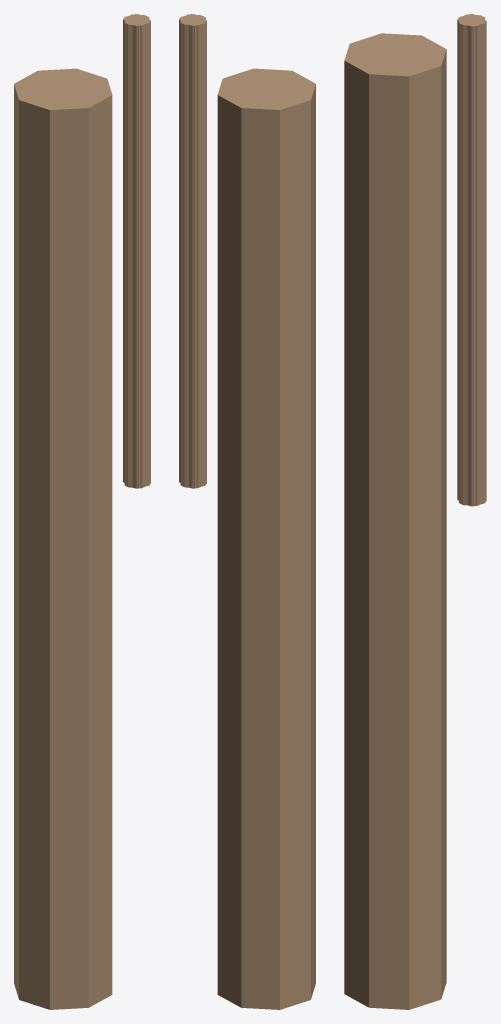
The model's file is bare_maple.glb.
3 renders of one model, left to right at view 1: azimuth 30°, elevation 25°; view 2: azimuth 150°, elevation 25°; view 3: azimuth 330°, elevation 25°, orthographic. The views are drawn at different scales.
Parts seen in each view (by area): view 1: trunk, branch.002, branch, branch.001; view 2: trunk, branch.002, branch, branch.001; view 3: trunk, branch.002, branch, branch.001.
Part boxes in pixels (x1=…): trunk: x1=14, y1=68, x2=112, y2=1009; branch.002: x1=123, y1=14, x2=150, y2=488; branch: x1=124, y1=14, x2=149, y2=488; branch.001: x1=124, y1=14, x2=149, y2=488; trunk: x1=217, y1=68, x2=315, y2=1009; branch.002: x1=179, y1=14, x2=206, y2=488; branch: x1=180, y1=14, x2=205, y2=488; branch.001: x1=180, y1=14, x2=205, y2=488; trunk: x1=344, y1=33, x2=446, y2=1009; branch.002: x1=457, y1=14, x2=486, y2=505; branch: x1=459, y1=14, x2=484, y2=506; branch.001: x1=458, y1=14, x2=485, y2=506.
Bounding box in the file's own units: 0.5298 × 3.7 × 0.3594.
